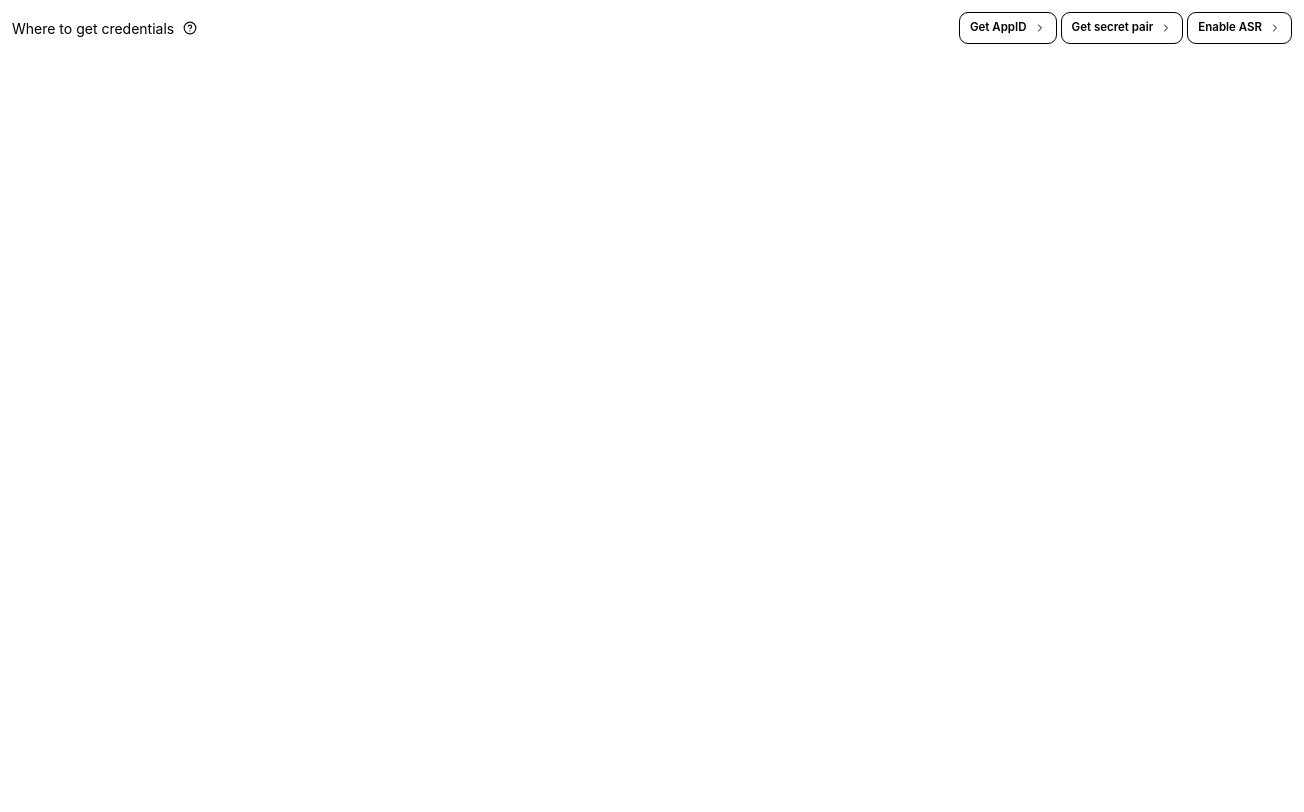
it: reports console-opening failures with a sanitized transient toast
The width and height of the screenshot is (1304, 812).
Click the button "Get AppID". click: (1008, 28)
box: [959,12,1057,44]
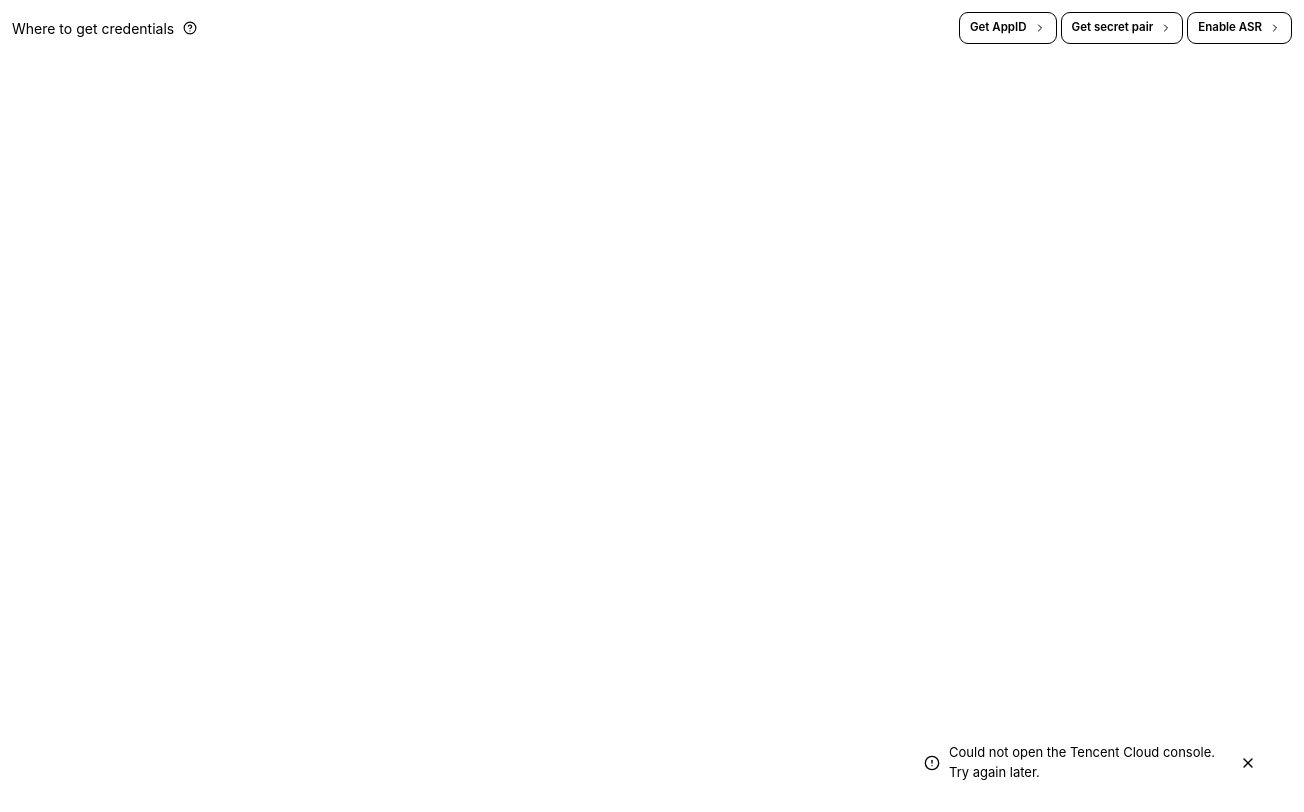
Expected: the text "Could not open the Tencent Cloud console. Try again later." is shown, [949,743,1227,782]
